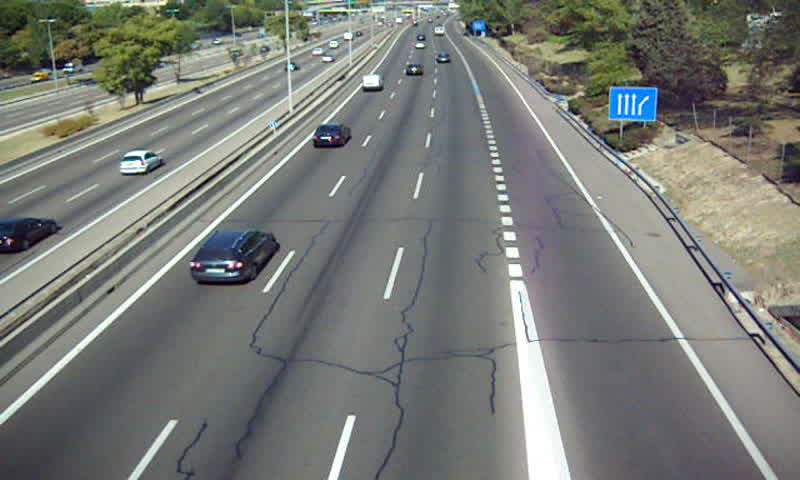car: (188, 229, 277, 284), (312, 124, 350, 148), (406, 63, 423, 78)
van: (362, 74, 381, 92)
